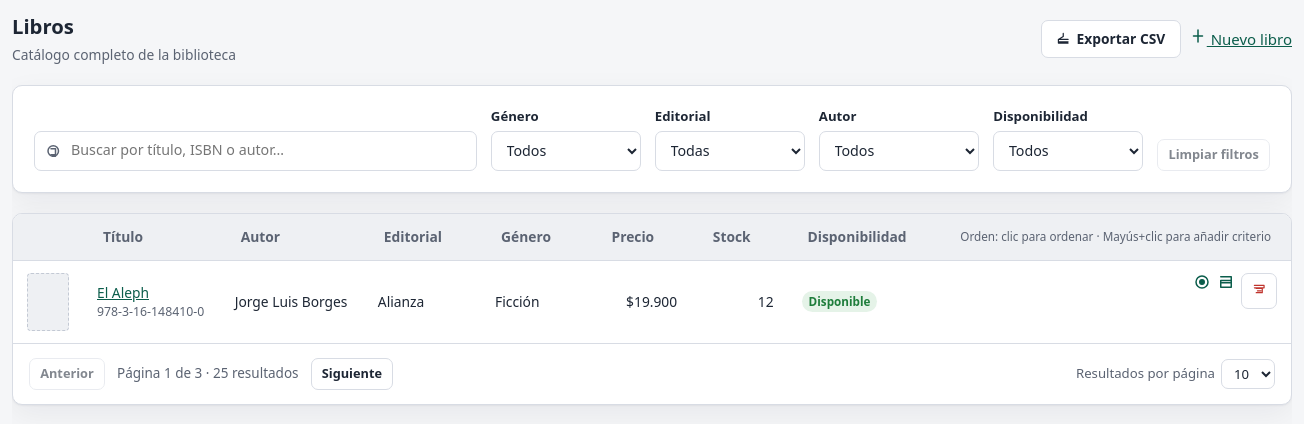
it: BooksPage › goes to page 2 when clicking Siguiente
Expected: the link "El Aleph" is shown, left=97, top=283, right=149, bottom=302
Click the button "Siguiente": coordinates (352, 374) left=310, top=358, right=393, bottom=390
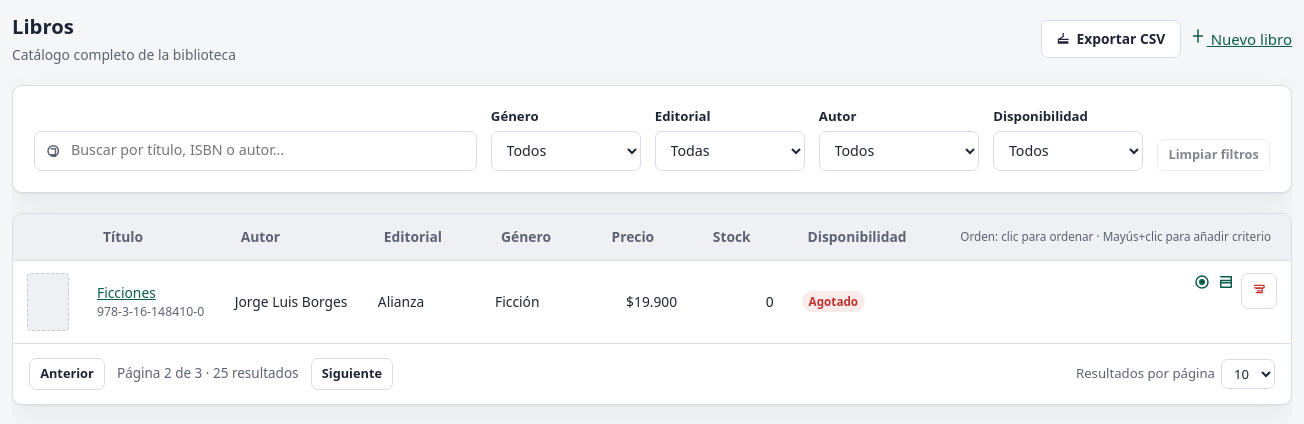
Now the link "Ficciones" is shown, box left=97, top=283, right=156, bottom=302
